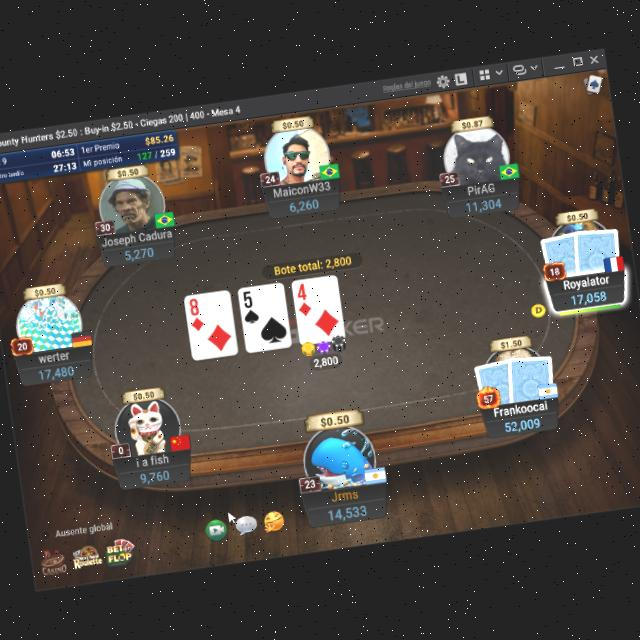4d: (294, 280, 314, 318)
5s: (240, 288, 262, 326)
8d: (186, 294, 208, 334)
bet_text: (312, 352, 339, 368)
card_back: (568, 222, 626, 278), (504, 349, 558, 405), (538, 228, 586, 282), (473, 356, 520, 408)
dealer: (528, 300, 548, 319)
pot_text: (273, 253, 353, 276)
stack_text: (327, 502, 369, 522), (570, 286, 608, 306), (38, 362, 76, 381), (503, 415, 542, 433), (466, 195, 503, 213), (122, 244, 156, 261), (138, 467, 172, 484), (288, 196, 320, 214)
